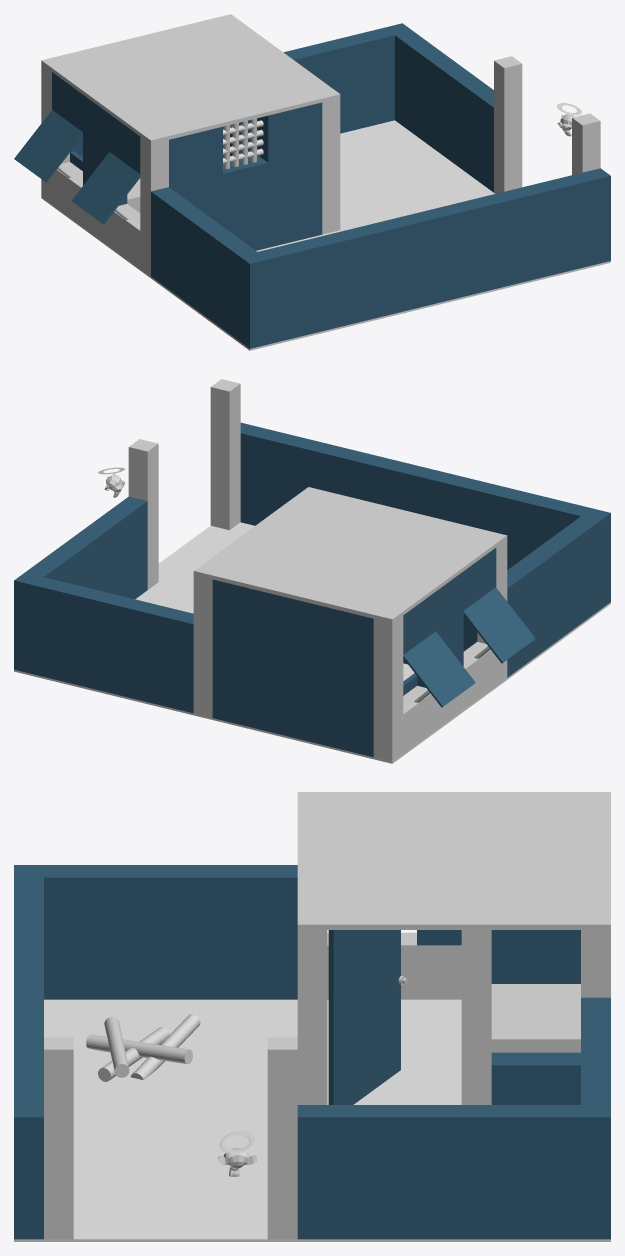
3 views of the same model, one above another, from view 1: azimuth 30°, elevation 25°; view 2: azimuth 150°, elevation 25°; view 3: azimuth 270°, elevation 25° (orthographic). The views are drawn at different scales.
Parts seen in each view (by area): view 1: Cube.022, Cube.005, Cube, Cube.025, Cube.023, Cube.007, Cube.024, Cube.008, Cube.026, Cube.009, Cube.010, Cube.018 (+8 smaller); view 2: Cube.005, Cube.006, Cube.022, Cube.024, Cube.023, Cube.025, Cube, Cube.027, Cube.002, Cube.010, Cube.026, Cube.018 (+6 smaller); view 3: Cube, Cube.005, Cube.025, Cube.023, Cube.019, Cube.022, Cube.024, Cube.026, Cube.020, Cube.027, Cube.001, Cube.015 (+9 smaller).
Boxes of the visible parts, left/top/right/bottom form: Cube.022: left=239, top=168, right=610, bottom=348; Cube.005: left=41, top=14, right=340, bottom=143; Cube: left=41, top=120, right=610, bottom=350; Cube.025: left=395, top=31, right=493, bottom=192; Cube.023: left=151, top=187, right=256, bottom=340; Cube.007: left=257, top=102, right=322, bottom=247; Cube.024: left=283, top=23, right=412, bottom=133; Cube.008: left=169, top=126, right=222, bottom=226; Cube.026: left=494, top=56, right=522, bottom=193; Cube.009: left=223, top=156, right=268, bottom=250; Cube.010: left=52, top=162, right=140, bottom=268; Cube.018: left=71, top=152, right=140, bottom=224; Cube.005: left=193, top=487, right=507, bottom=623; Cube.006: left=212, top=579, right=373, bottom=757; Cube.022: left=240, top=422, right=610, bottom=609; Cube.024: left=14, top=572, right=193, bottom=713; Cube.023: left=507, top=516, right=599, bottom=677; Cube.025: left=25, top=496, right=147, bottom=599; Cube: left=14, top=522, right=610, bottom=763; Cube.027: left=210, top=379, right=240, bottom=530; Cube.002: left=373, top=616, right=403, bottom=761; Cube.010: left=403, top=642, right=496, bottom=753; Cube.026: left=128, top=439, right=158, bottom=589; Cube.018: left=463, top=587, right=535, bottom=663; Cube: left=14, top=999, right=610, bottom=1241; Cube.005: left=297, top=792, right=610, bottom=929; Cube.025: left=297, top=1105, right=580, bottom=1239; Cube.023: left=44, top=865, right=297, bottom=999; Cube.019: left=328, top=930, right=400, bottom=1104; Cube.022: left=14, top=865, right=43, bottom=1239; Cube.024: left=581, top=997, right=610, bottom=1239; Cube.026: left=267, top=1037, right=297, bottom=1239; Cube.020: left=491, top=984, right=580, bottom=1052; Cube.027: left=44, top=1037, right=73, bottom=1239; Cube.001: left=297, top=930, right=327, bottom=1104; Cube.015: left=461, top=930, right=491, bottom=1104.
Size of the model in its own units: 49.49 by 14.96 by 40.
